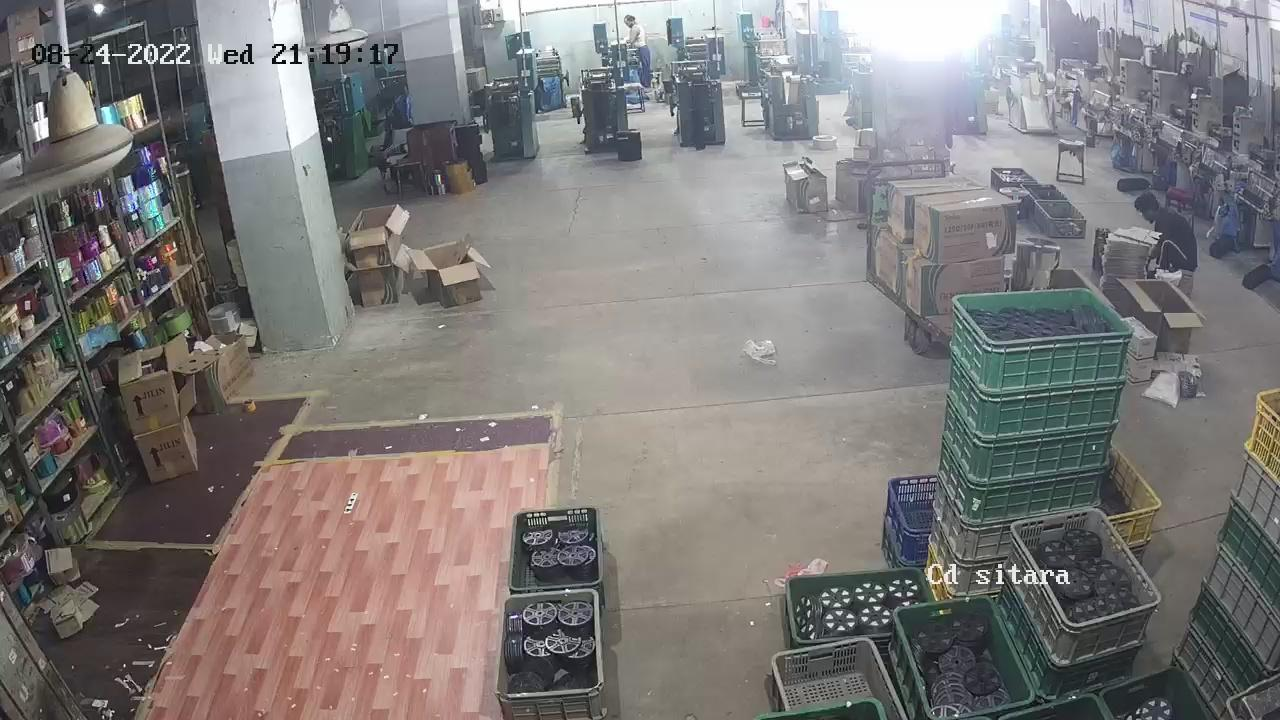person: (1134, 188, 1198, 276), (624, 11, 649, 95)
